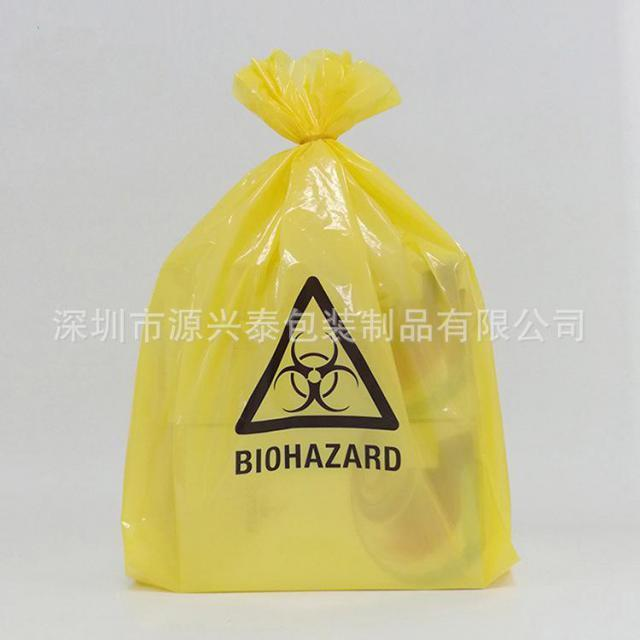waste: (109, 59, 524, 590)
